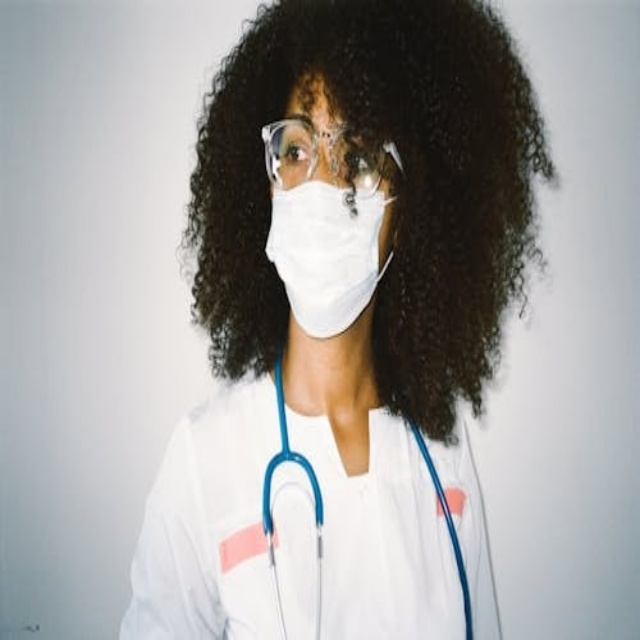Gafas: (261, 118, 404, 196)
Mascara: (263, 156, 397, 337)
